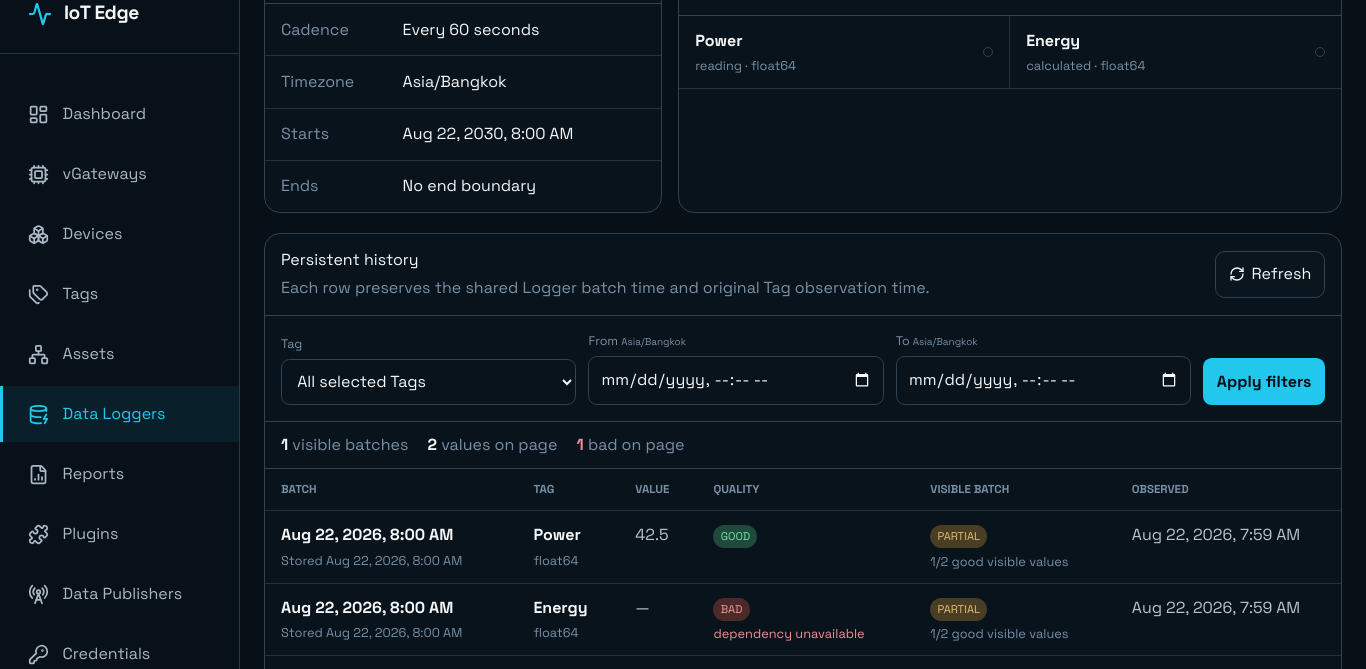
it: DataLoggerDetailPage › rejects invalid local ranges before changing the query
(page scrolled)
In the field labelled "From Asia/Bangkok": (736,380) [588,356,884,405], type "2026-08-22T10:00"
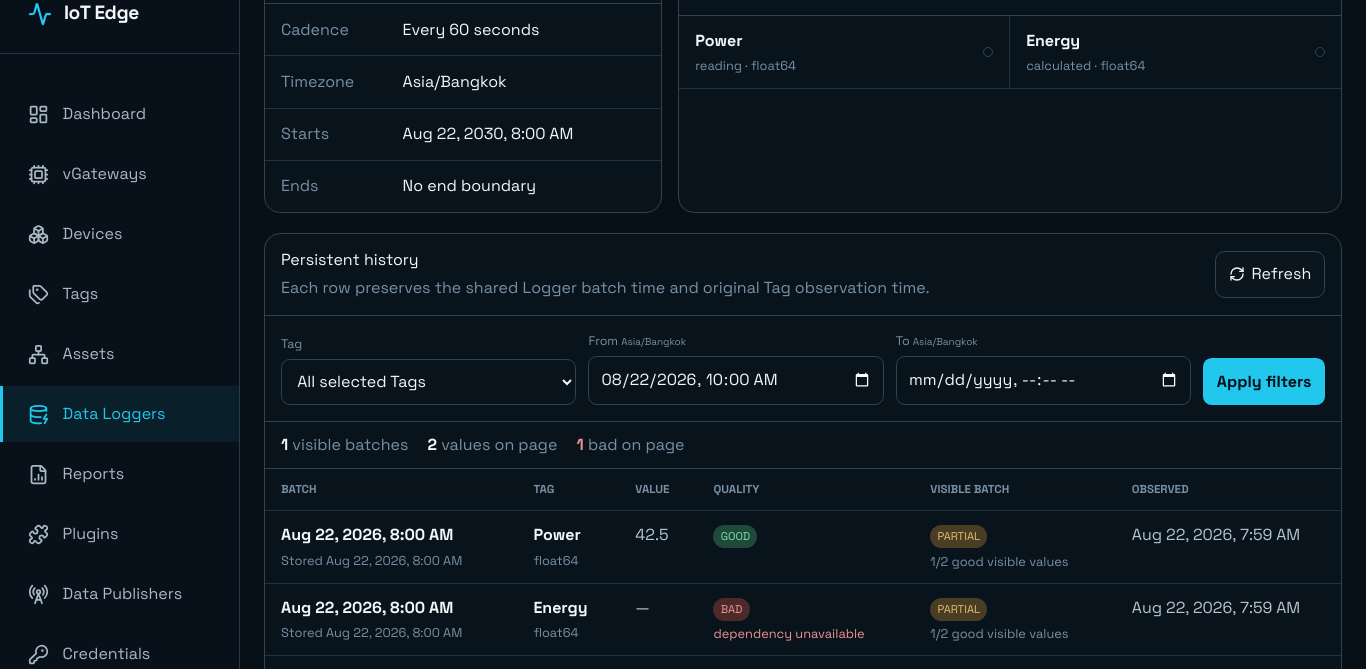
In the field labelled "To Asia/Bangkok": (1044,380) [896,356,1191,405], type "2026-08-22T09:00"
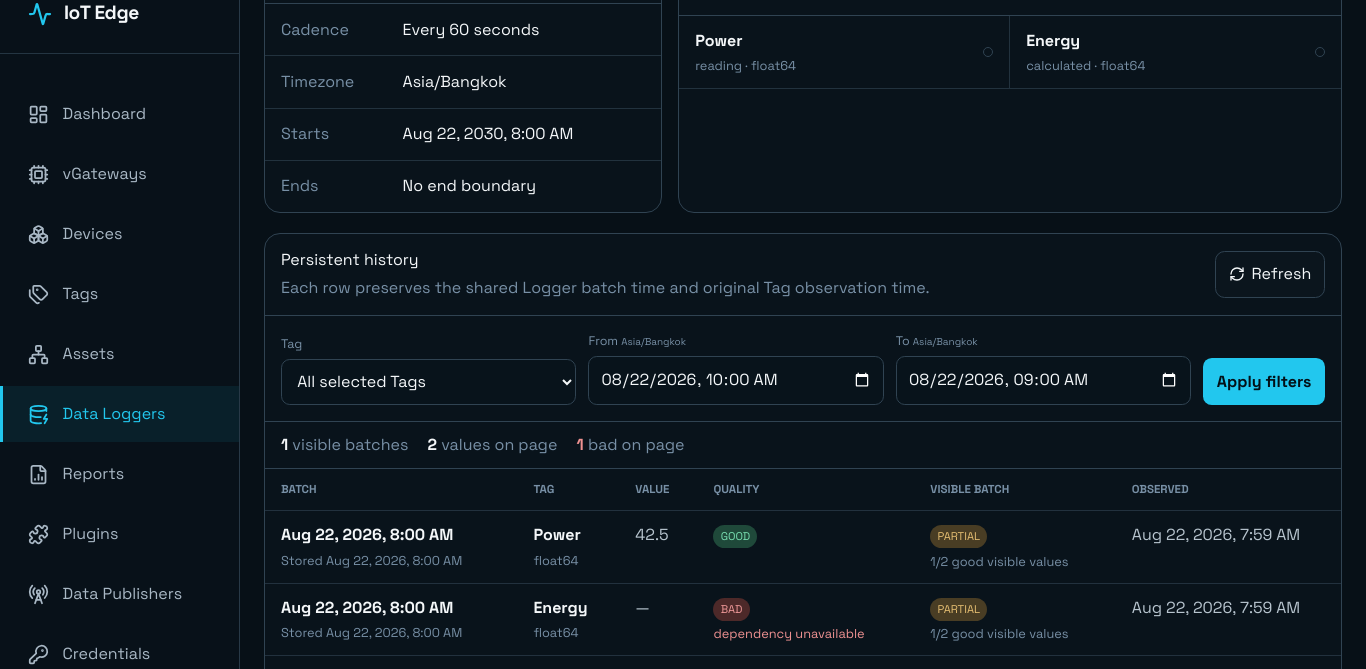
Click the button "Apply filters": (1264,382) [1203,358,1325,405]
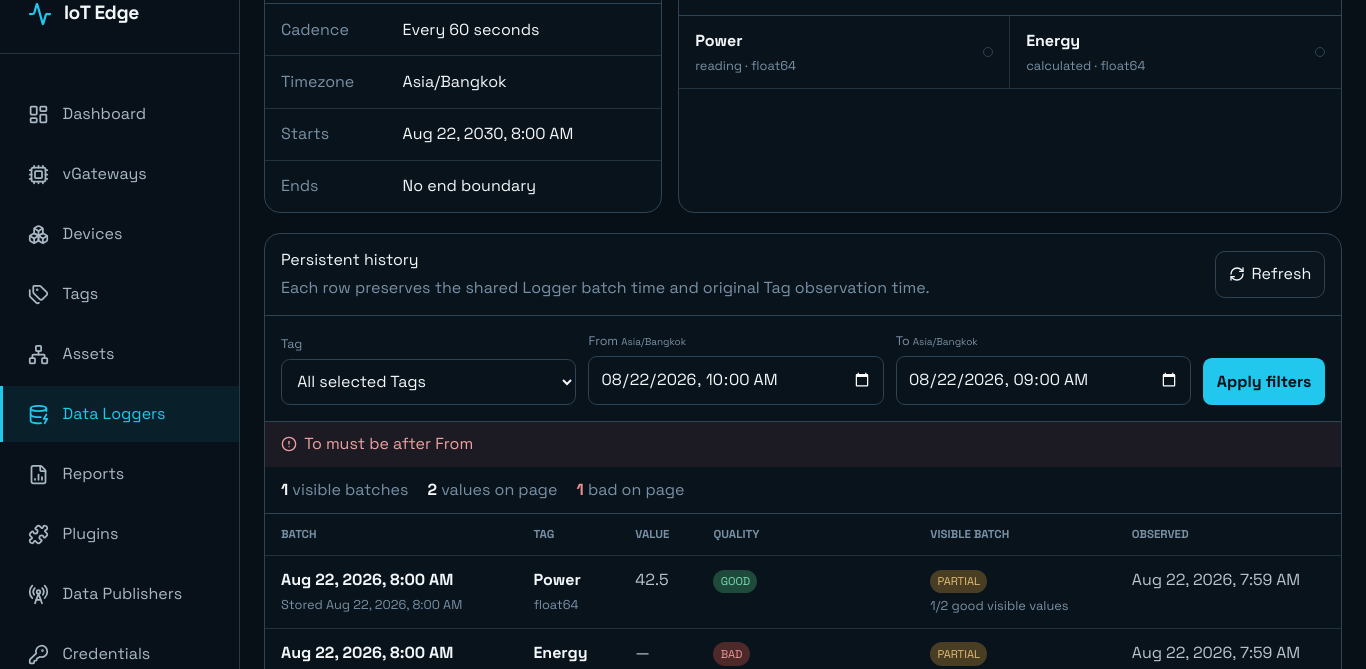
Expected: the message reads "To must be after From", [304,433,473,454]
